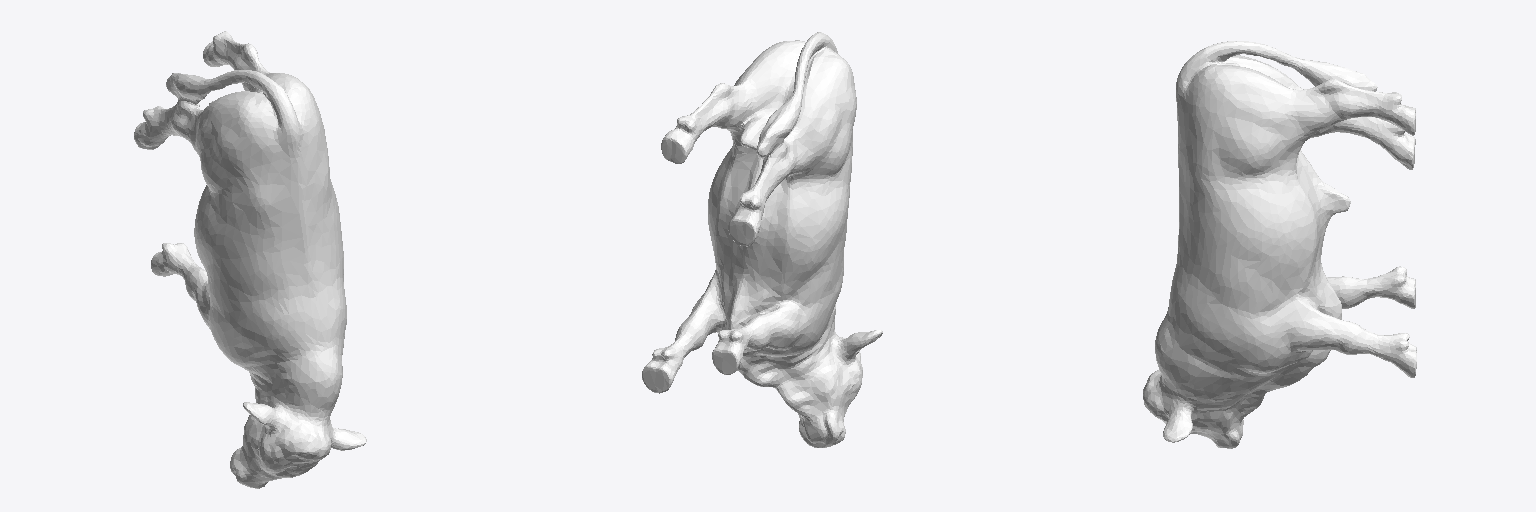
Rendered from Schleich_Hereford_Bull_visual.obj.
The picture shows the model from 3 angles: view 1: azimuth 30°, elevation 25°; view 2: azimuth 150°, elevation 25°; view 3: azimuth 270°, elevation 25°; orthographic projection.
Size of the model in its own units: 0.0481 by 0.1477 by 0.0896.